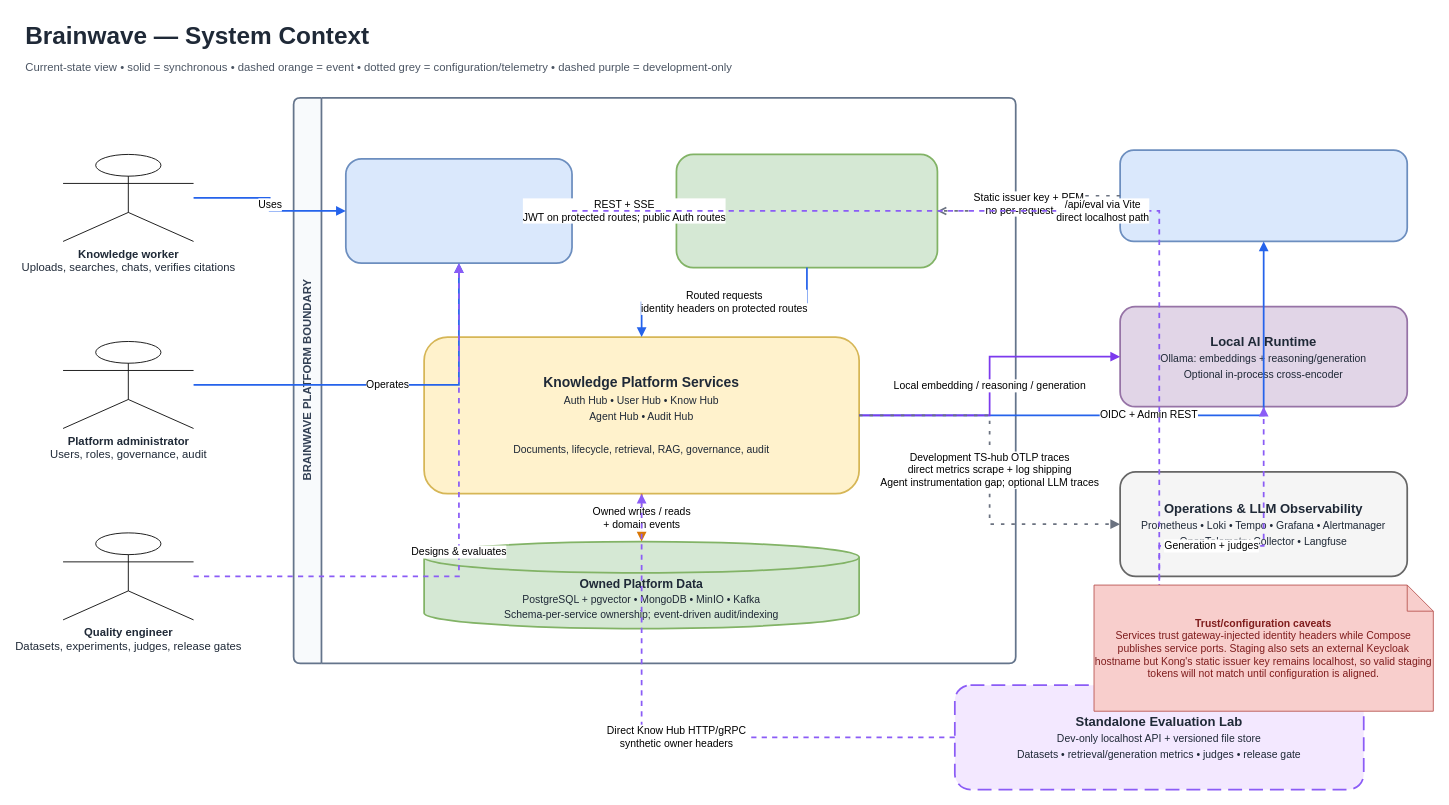
Image size: 1449x805. Some labels were removed from this diagram. The centre of each missing label's shape, as x and y in pixels:
API & Identity Edge Kong gateway JWT validation • routing • correlation • SSE: the point at 806,210
Brainwave Web UI React / Vite SPA Documents • Search • Chat • Admin • Evaluation: the point at 458,210
Keycloak Identity, credentials, sessions, realm roles, tokens: the point at 1263,195
